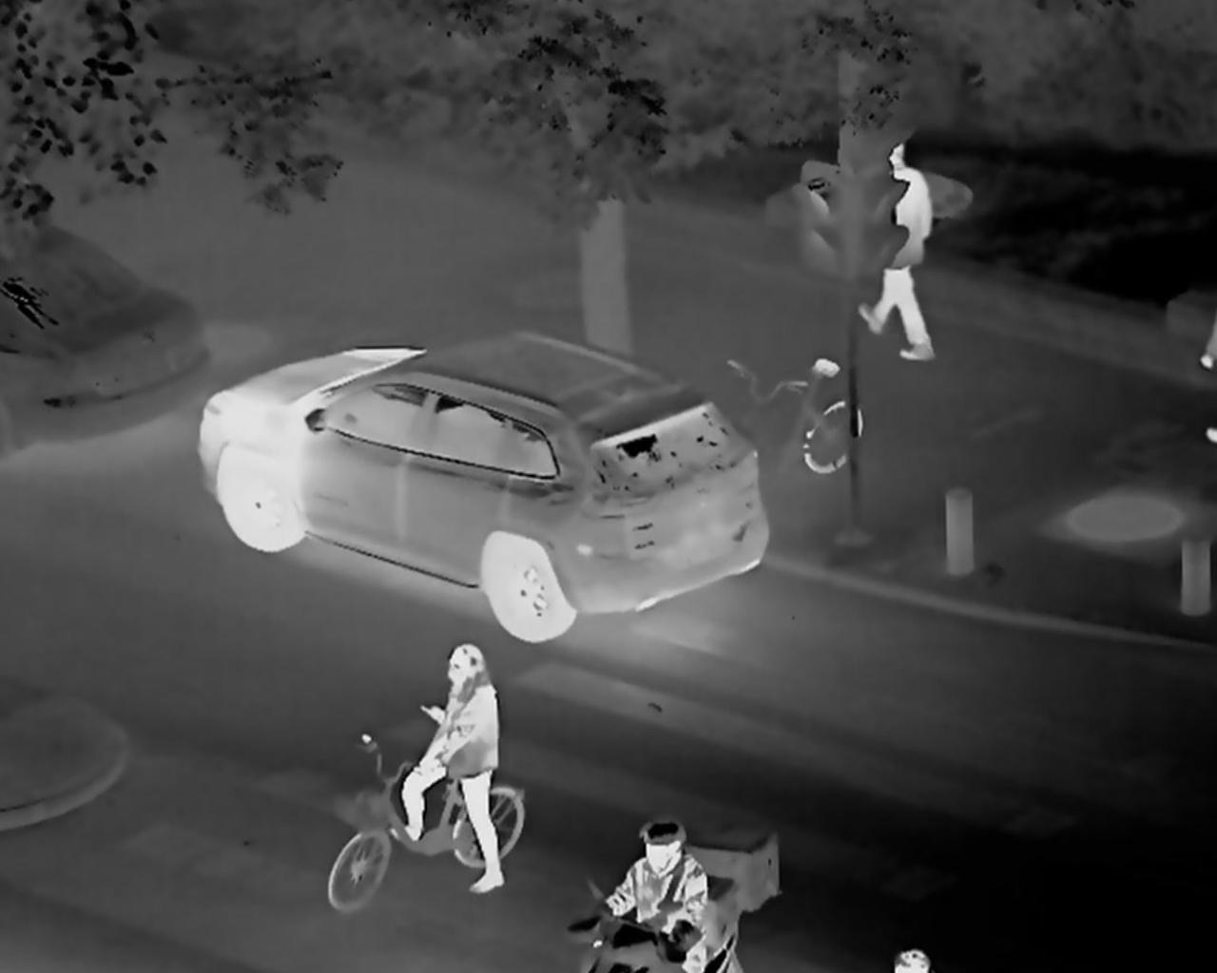person: (389, 645, 508, 895), (568, 819, 708, 973), (846, 135, 939, 363)
